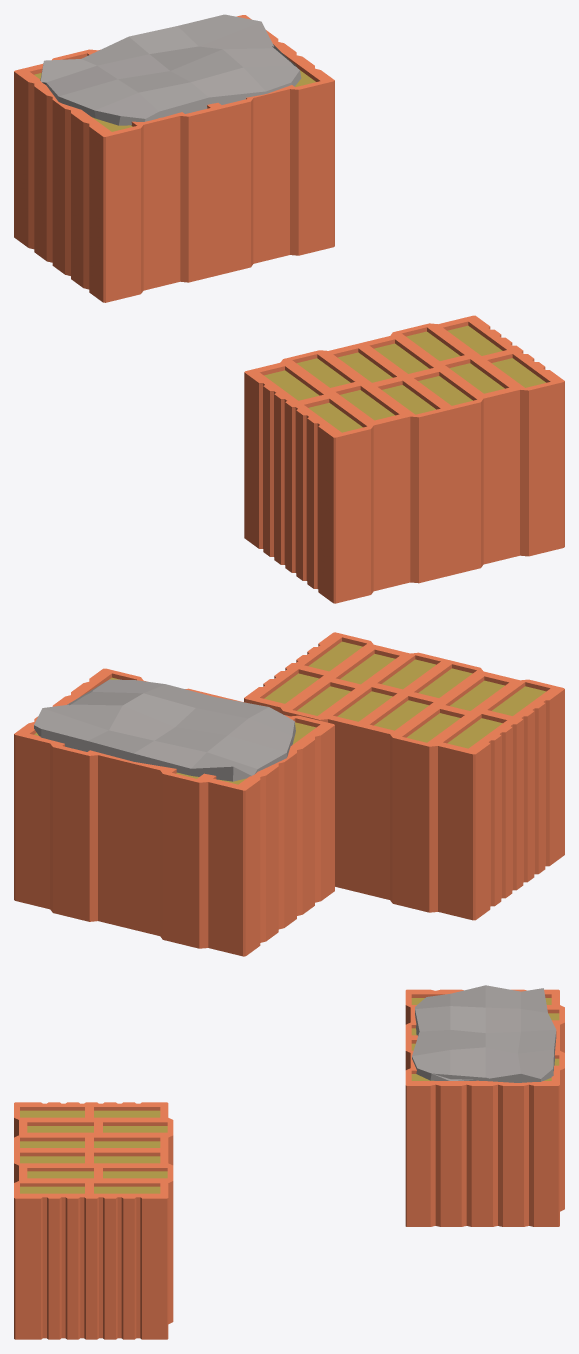
3 renders of one model, top to bottom at view 1: azimuth 30°, elevation 25°; view 2: azimuth 150°, elevation 25°; view 3: azimuth 270°, elevation 25°, orthographic. The views are drawn at different scales.
Parts seen in each view (by area): view 1: Außenziegel template.002, Außenziegel template.001, mörtel; view 2: Außenziegel template.002, Außenziegel template.001, mörtel; view 3: Außenziegel template.002, Außenziegel template.001, mörtel.
Part boxes in pixels (bbox=[...]): Außenziegel template.002: bbox=[244, 315, 564, 603]; Außenziegel template.001: bbox=[14, 15, 334, 302]; mörtel: bbox=[40, 14, 301, 125]; Außenziegel template.002: bbox=[244, 632, 564, 920]; Außenziegel template.001: bbox=[14, 668, 334, 956]; mörtel: bbox=[34, 679, 295, 781]; Außenziegel template.002: bbox=[14, 1102, 173, 1339]; Außenziegel template.001: bbox=[405, 989, 564, 1226]; mörtel: bbox=[412, 985, 556, 1082].
Bounding box in the file's own units: 0.3653 × 0.4692 × 0.8841.
